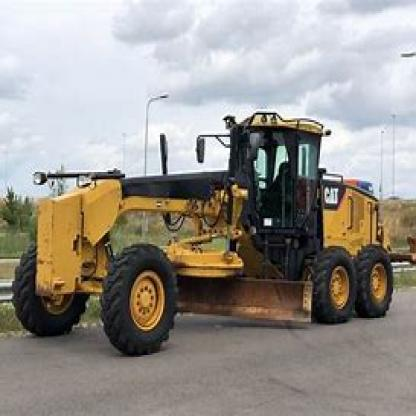bull_dozer/loader/grader: (11, 98, 408, 368)
